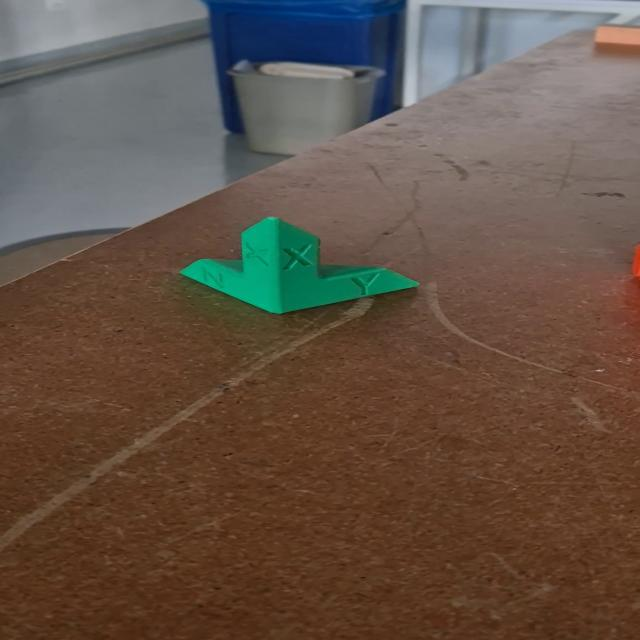objects: (178, 216, 422, 315)
